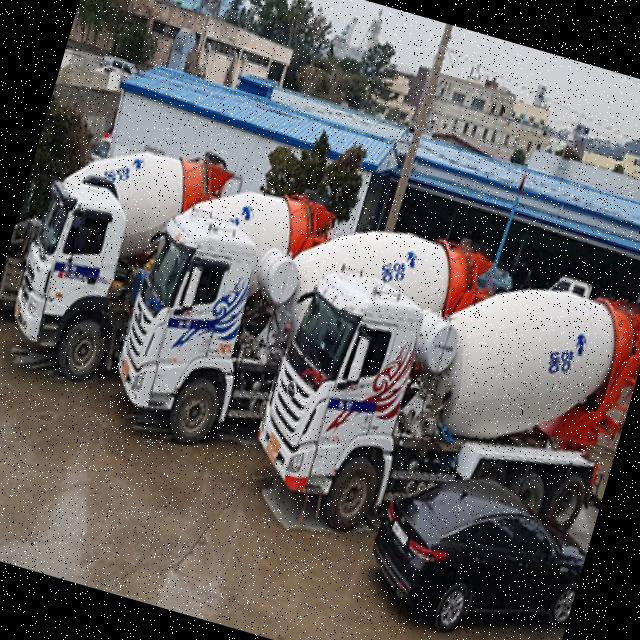Mixer Truck: (234, 206, 640, 598), (97, 157, 511, 521), (0, 119, 346, 443), (0, 101, 241, 383)
